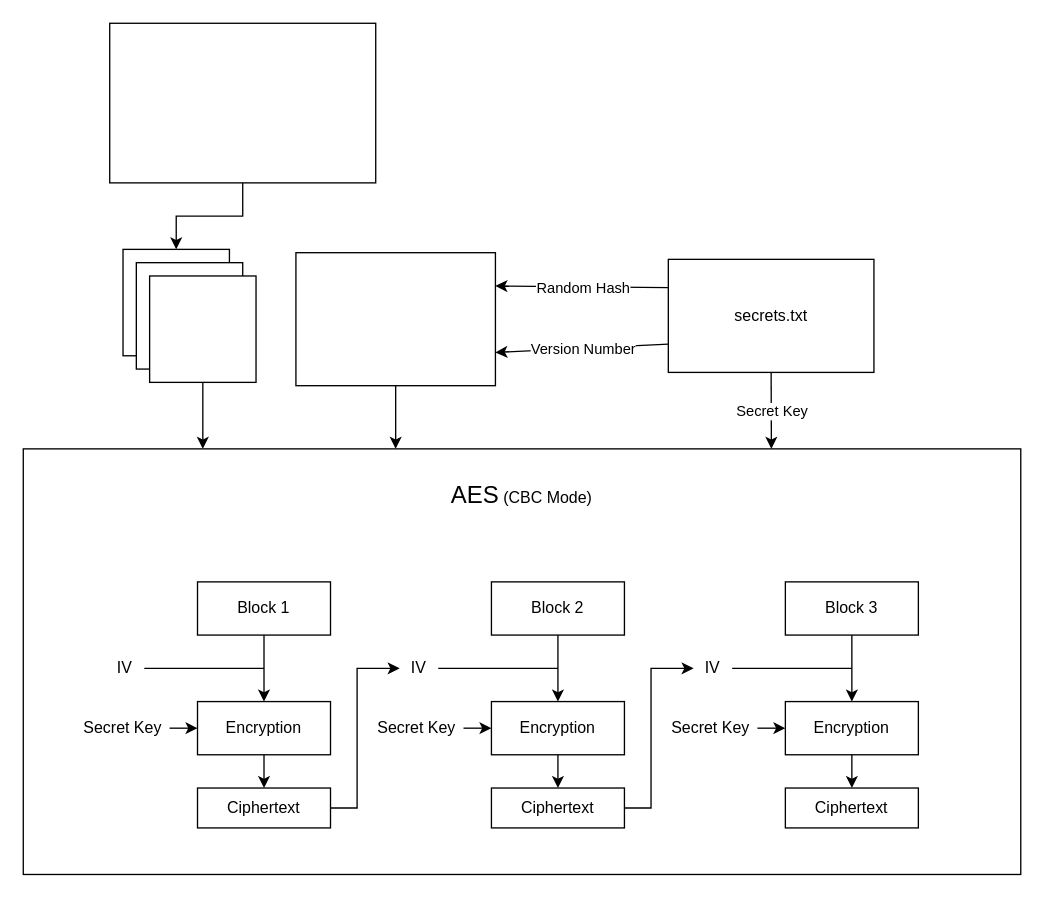
Some shapes in this 1044 by 898 pixel diagram are drawn without their labels. The shapes that lost their labels are listed below. From the top down, each one's box as (x1, y1, x2, y2) in pixels, then its label:
(108, 22, 376, 183): Source Code
(148, 275, 256, 382): Blocks
(295, 251, 495, 386): Initialization Vector
